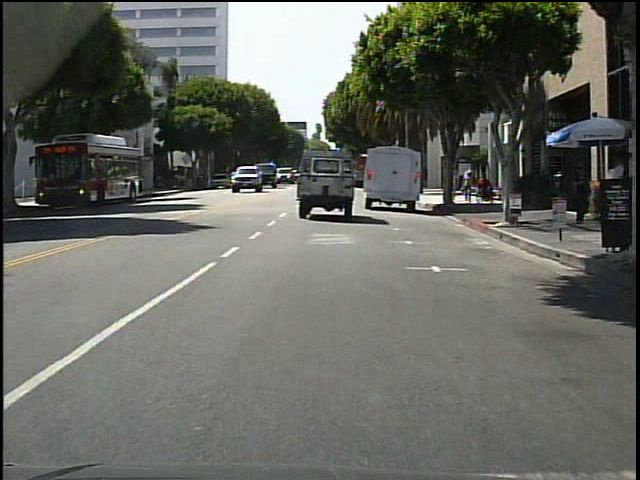person: (601, 149, 631, 252), (572, 168, 592, 225), (463, 169, 476, 204), (450, 165, 461, 204)
